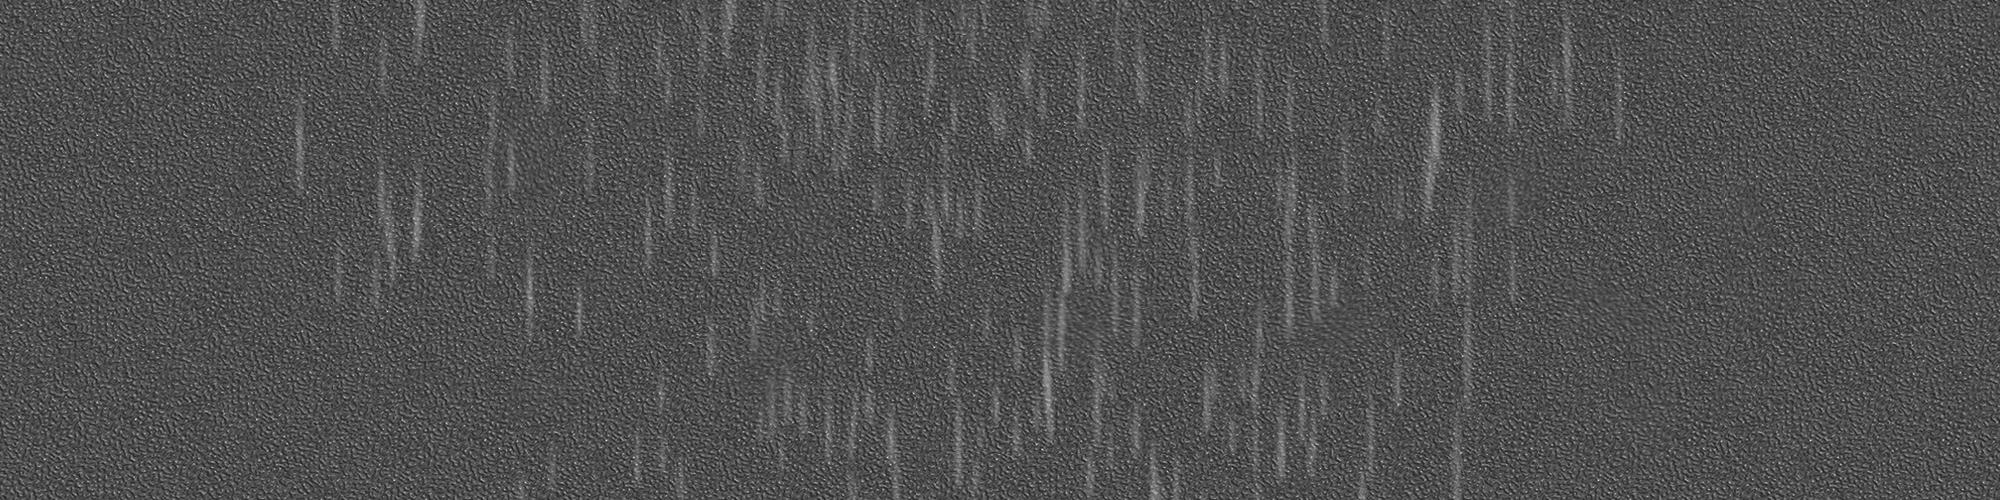Streaks: (1274, 68, 1358, 335), (1422, 163, 1489, 500), (858, 142, 991, 298), (932, 307, 1031, 495), (1033, 175, 1093, 459), (796, 6, 889, 166), (1005, 9, 1093, 175), (629, 147, 727, 291), (749, 358, 834, 499), (841, 338, 909, 500), (1349, 346, 1413, 500), (1273, 362, 1338, 497), (1176, 84, 1209, 348), (737, 273, 825, 364), (1602, 38, 1659, 176), (744, 32, 790, 203), (577, 6, 635, 131), (1237, 267, 1269, 494), (889, 8, 944, 133), (1078, 351, 1124, 500), (472, 89, 528, 203), (1189, 360, 1244, 474), (675, 4, 719, 139), (1477, 3, 1517, 145), (1413, 61, 1443, 241), (1196, 6, 1237, 128), (1082, 233, 1122, 353), (631, 422, 691, 499), (1117, 11, 1159, 117), (286, 92, 323, 203), (497, 441, 569, 497), (1541, 14, 1573, 136), (642, 34, 681, 131), (556, 264, 594, 362), (1093, 130, 1125, 247), (374, 159, 395, 332), (698, 298, 737, 386), (1501, 161, 1523, 315), (946, 6, 992, 79), (1120, 242, 1147, 364), (402, 157, 430, 272), (577, 115, 603, 230), (514, 239, 543, 338), (1144, 436, 1189, 500), (709, 9, 744, 91), (480, 224, 510, 305), (1244, 51, 1265, 163), (645, 351, 677, 418), (409, 10, 439, 83), (369, 34, 395, 114), (1371, 20, 1401, 92), (1383, 165, 1409, 241), (883, 279, 915, 338), (534, 41, 557, 120), (1441, 61, 1466, 131), (1362, 87, 1386, 156), (935, 99, 967, 151), (989, 94, 1017, 152), (1133, 133, 1147, 246), (1311, 6, 1341, 59), (1156, 148, 1173, 231), (323, 3, 349, 57), (1122, 397, 1142, 463), (506, 31, 520, 111), (758, 9, 797, 31), (330, 232, 342, 302)
